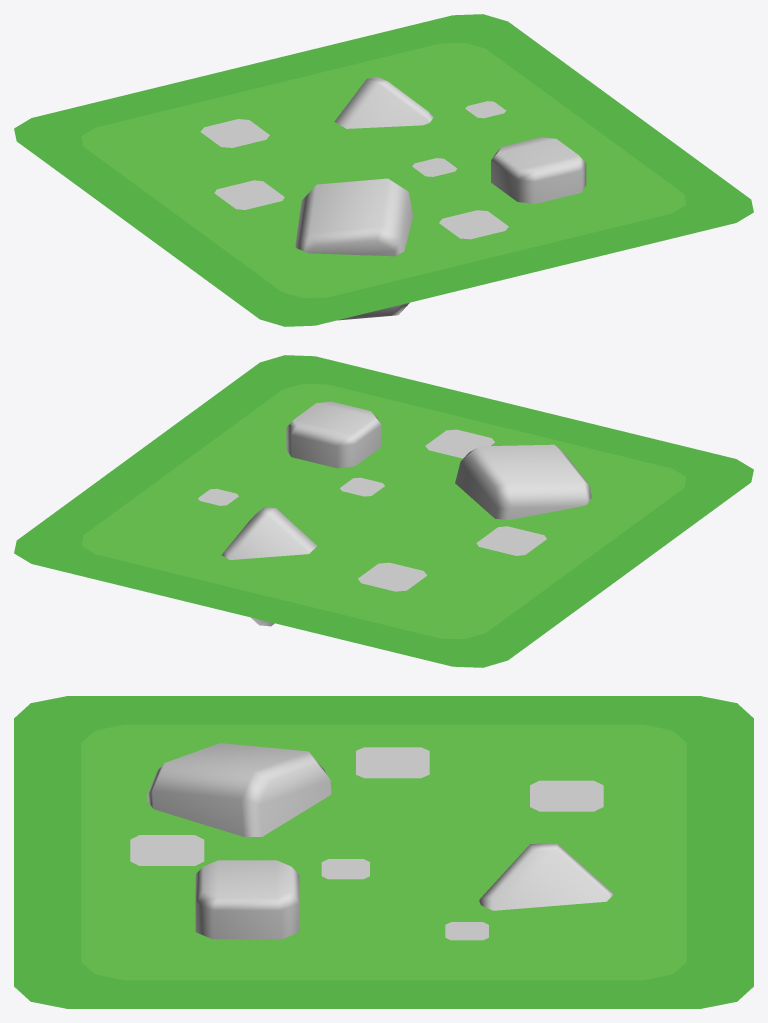
Rendered from BC_cookrecipe_09.fbx.
The picture shows the model from 3 angles, top to bottom: view 1: azimuth 30°, elevation 25°; view 2: azimuth 150°, elevation 25°; view 3: azimuth 270°, elevation 25°; orthographic projection. The views are drawn at different scales.
Parts seen in each view (by area): view 1: base, cube2, cube1, cube3, boko4, boko2, boko1, boko8; view 2: base, cube2, cube1, cube3, boko4, boko1, boko2, boko8; view 3: base, cube2, cube1, cube3, boko4, boko1, boko2, boko8, boko7.
Part boxes in pixels (x1=…): base: x1=14, y1=14, x2=753, y2=326; cube2: x1=295, y1=178, x2=413, y2=320; cube1: x1=491, y1=137, x2=586, y2=203; cube3: x1=334, y1=76, x2=433, y2=128; boko4: x1=214, y1=180, x2=284, y2=209; boko2: x1=439, y1=210, x2=508, y2=239; boko1: x1=200, y1=119, x2=269, y2=147; boko8: x1=412, y1=158, x2=457, y2=176; base: x1=14, y1=355, x2=753, y2=667; cube2: x1=455, y1=444, x2=591, y2=519; cube1: x1=286, y1=401, x2=381, y2=468; cube3: x1=221, y1=507, x2=316, y2=626; boko4: x1=476, y1=526, x2=546, y2=555; boko1: x1=358, y1=562, x2=426, y2=591; boko2: x1=425, y1=429, x2=494, y2=458; boko8: x1=340, y1=477, x2=384, y2=496; base: x1=14, y1=696, x2=753, y2=1008; cube2: x1=147, y1=743, x2=331, y2=836; cube1: x1=195, y1=860, x2=299, y2=939; cube3: x1=479, y1=843, x2=613, y2=910; boko4: x1=356, y1=747, x2=429, y2=778; boko1: x1=530, y1=780, x2=603, y2=811; boko2: x1=130, y1=835, x2=204, y2=865; boko8: x1=321, y1=859, x2=369, y2=879; boko7: x1=445, y1=922, x2=488, y2=940.
Bounding box in the file's own units: 3.5 × 0.8223 × 3.5.
